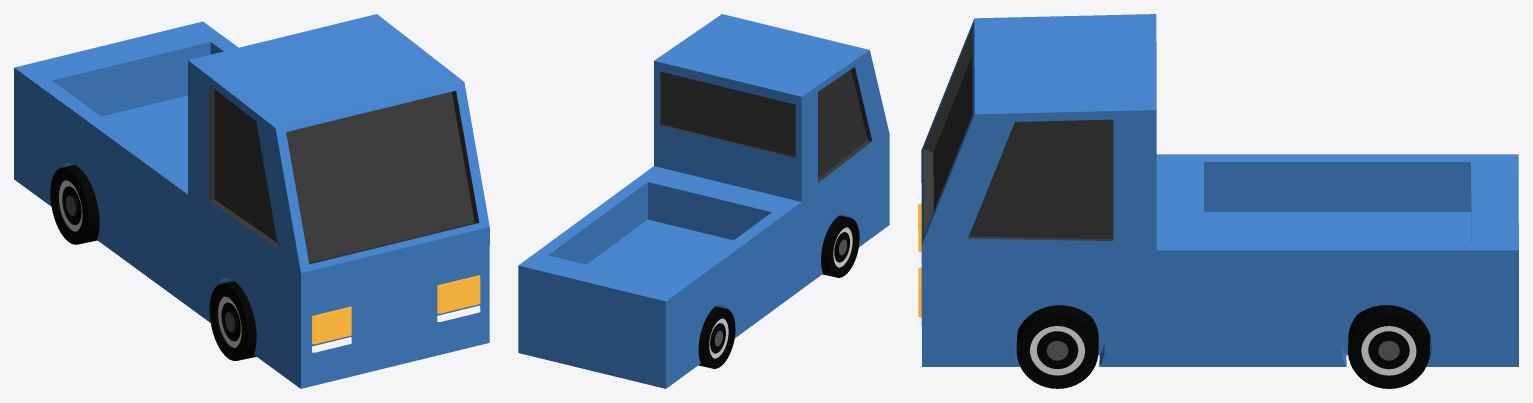
Rendered from Truck05.glb.
3 views of the same model, side by side, from view 1: azimuth 30°, elevation 25°; view 2: azimuth 150°, elevation 25°; view 3: azimuth 270°, elevation 25° (orthographic). The views are drawn at different scales.
Parts seen in each view (by area): view 1: Cube.014; view 2: Cube.014; view 3: Cube.014.
Boxes of the visible parts, <box> form: Cube.014: <box>14,14,489,388</box>; Cube.014: <box>518,14,889,388</box>; Cube.014: <box>918,14,1518,388</box>.
Bounding box in the file's own units: 1.43 × 1.72 × 3.41.
